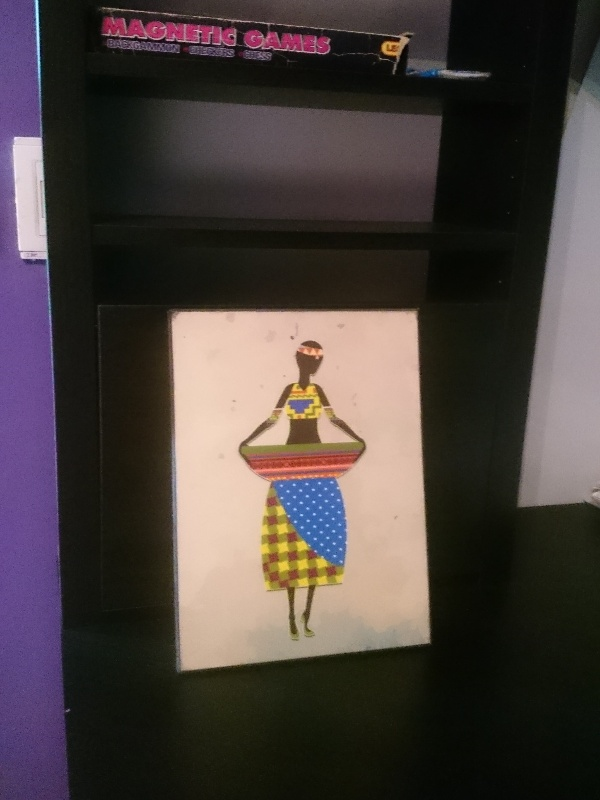my image: (177, 311, 428, 671)
